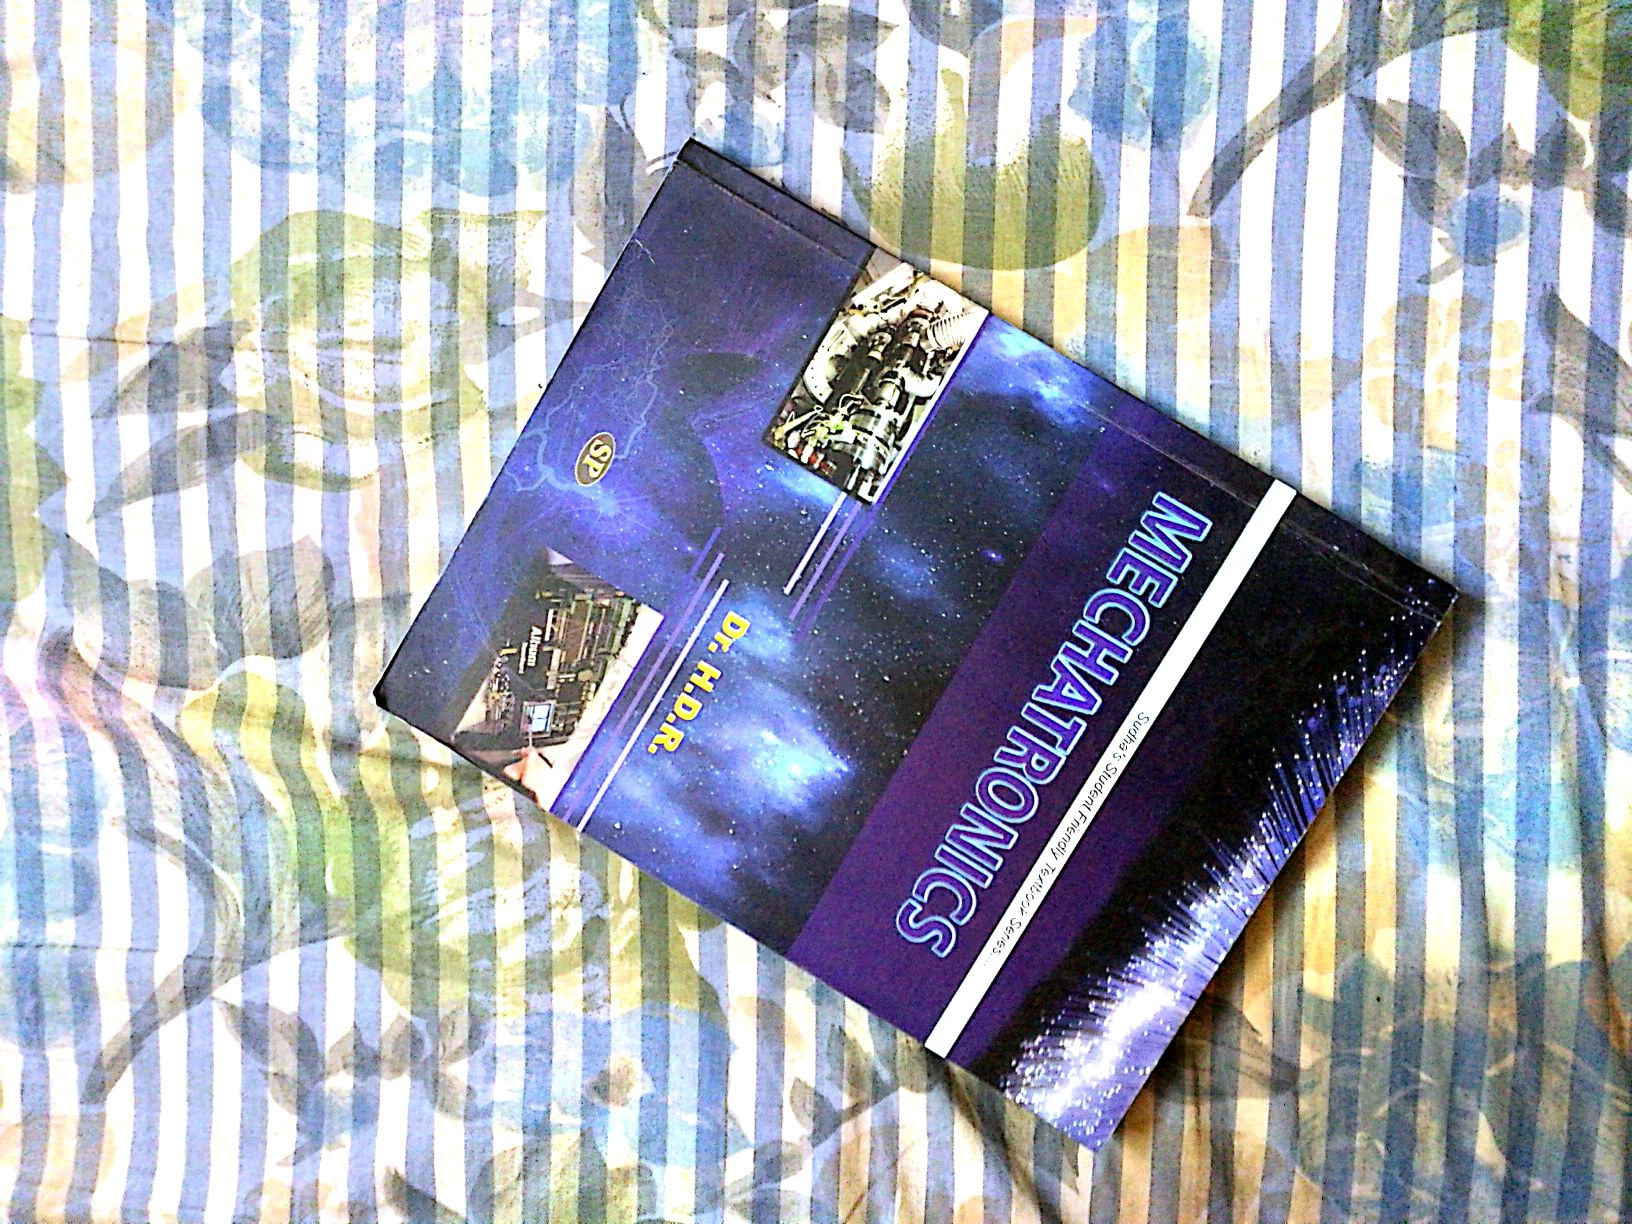mechatronics: (369, 171, 1435, 1129)
